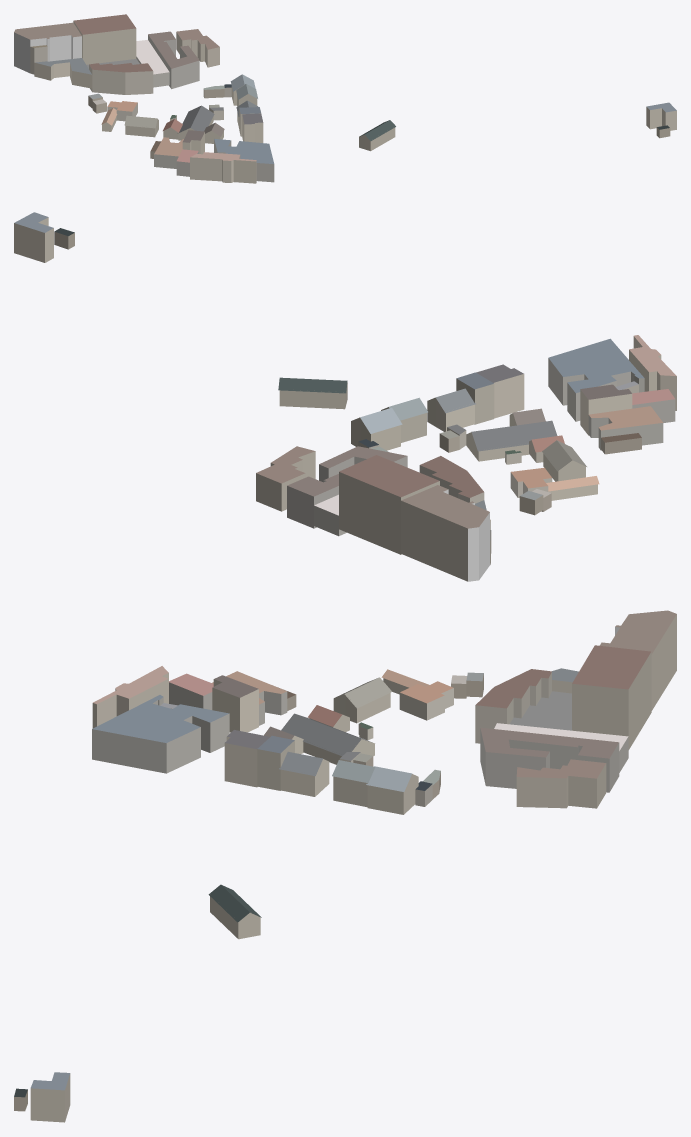
3 views of the same model, one above another, from view 1: azimuth 30°, elevation 25°; view 2: azimuth 150°, elevation 25°; view 3: azimuth 270°, elevation 25° (orthographic). The views are drawn at different scales.
Parts seen in each view (by area): view 1: tuile; view 2: tuile; view 3: tuile.
Part boxes in pixels (left/top/right/bottom): tuile: left=14, top=14, right=676, bottom=183; tuile: left=14, top=212, right=676, bottom=581; tuile: left=14, top=610, right=676, bottom=1122.
Size of the model in its own units: 256 by 39.03 by 185.
